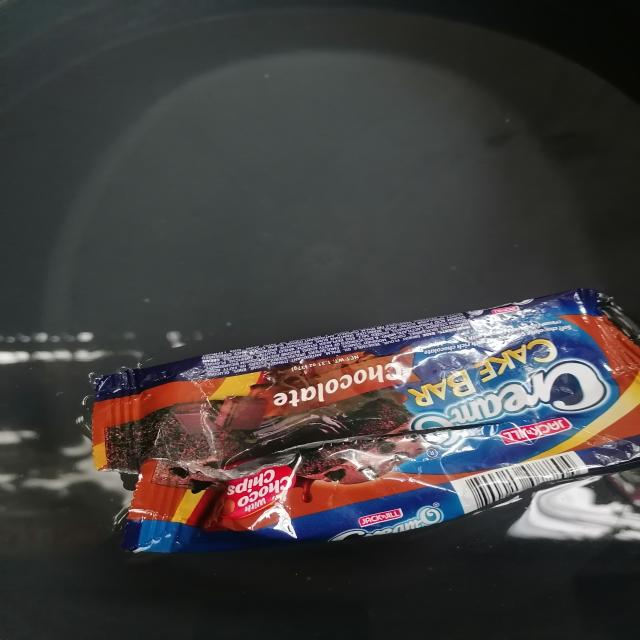Plastic Wrapper: (92, 289, 640, 553)
